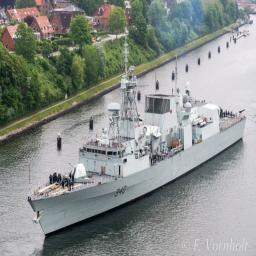Fragata: (25, 22, 251, 240)
